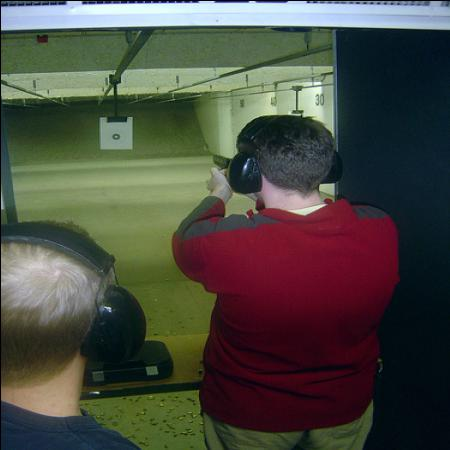Pistol: (208, 150, 230, 182)
